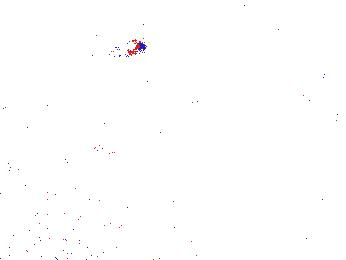X-ray fish: (294, 95, 346, 134)
red belly glassfish: (73, 135, 120, 162), (115, 38, 148, 61), (317, 71, 346, 92), (283, 197, 295, 224)
